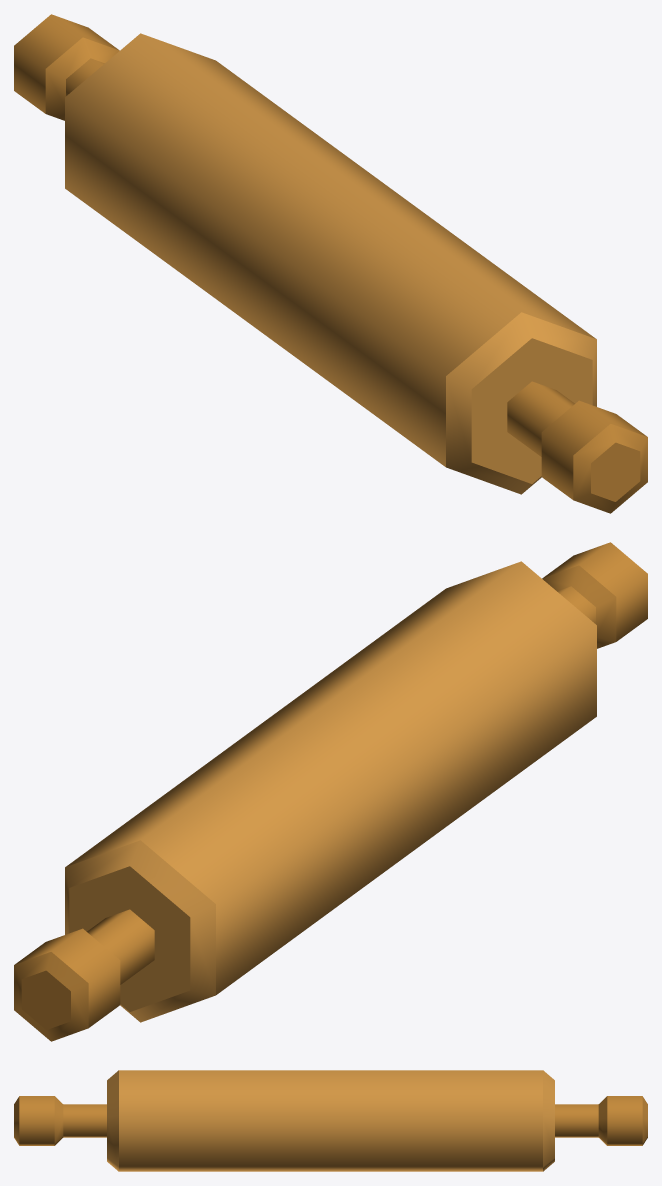
The model's file is FoodProp_2_A.fbx.
The picture shows the model from 3 angles, top to bottom: view 1: azimuth 30°, elevation 25°; view 2: azimuth 150°, elevation 25°; view 3: azimuth 270°, elevation 25°; orthographic projection. The views are drawn at different scales.
Parts seen in each view (by area): view 1: FoodProp_2_A; view 2: FoodProp_2_A; view 3: FoodProp_2_A.
Part boxes in pixels (left/top/right/bottom): FoodProp_2_A: left=14, top=14, right=647, bottom=513; FoodProp_2_A: left=14, top=542, right=647, bottom=1041; FoodProp_2_A: left=14, top=1070, right=647, bottom=1171.
Bounding box in the file's own units: 8.71 × 10.05 × 56.86.
